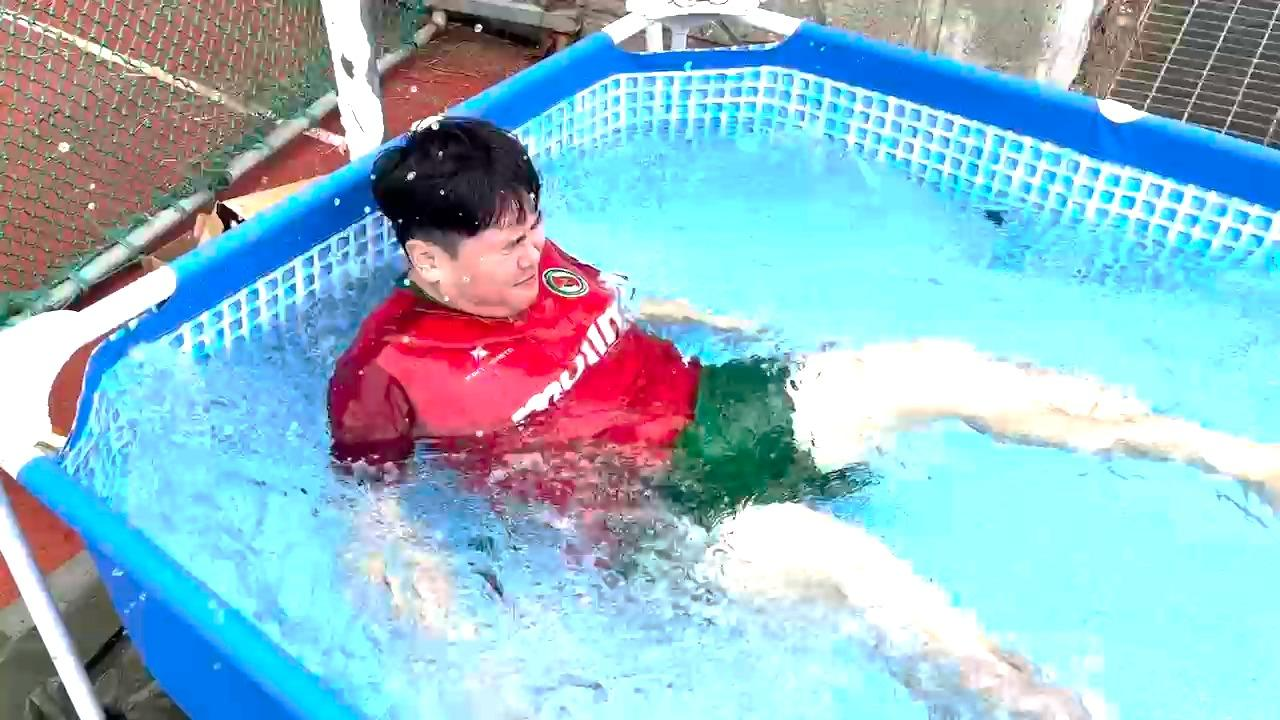Drowning: (276, 110, 1280, 720)
